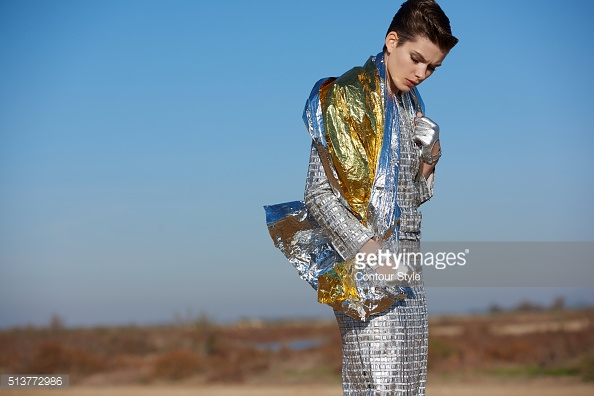em pe: (284, 3, 448, 288)
